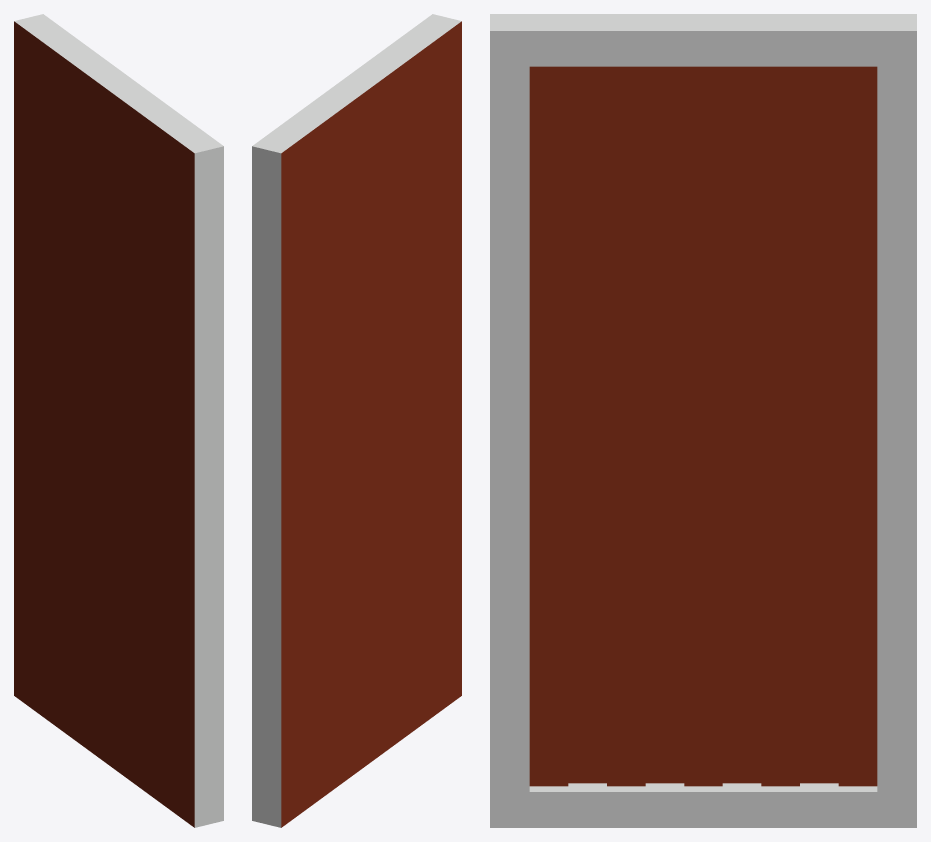
The model's file is SM_Barndoor_01.obj.
3 renders of one model, left to right at view 1: azimuth 30°, elevation 25°; view 2: azimuth 150°, elevation 25°; view 3: azimuth 270°, elevation 25°, orthographic. The views are drawn at different scales.
Visible parts, largest first — view 1: SM_Barndoor_01_M_LowPolyFarm_MAIN; view 2: SM_Barndoor_01_M_LowPolyFarm_MAIN; view 3: SM_Barndoor_01_M_LowPolyFarm_MAIN.
Part boxes in pixels (box(x1,y1,x2,y2)): SM_Barndoor_01_M_LowPolyFarm_MAIN: box(14, 14, 223, 827); SM_Barndoor_01_M_LowPolyFarm_MAIN: box(252, 14, 461, 827); SM_Barndoor_01_M_LowPolyFarm_MAIN: box(490, 14, 916, 827).
Size of the model in its own units: 0.25 by 5.5 by 2.67.
1 material, 1 textured.
